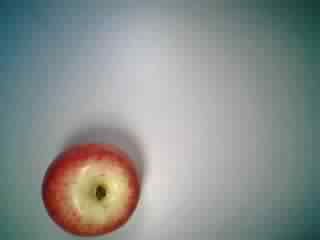apple: (39, 136, 146, 240)
